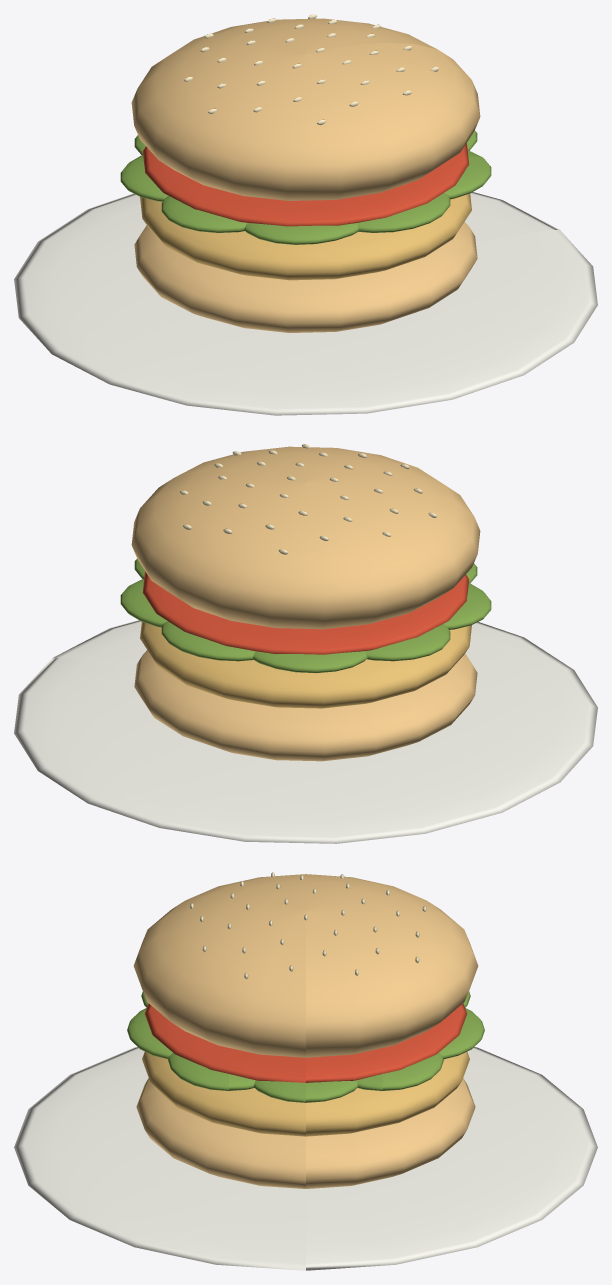
Rendered from aloo-tikki-burger.glb.
3 views of the same model, one above another, from view 1: azimuth 30°, elevation 25°; view 2: azimuth 150°, elevation 25°; view 3: azimuth 270°, elevation 25° (orthographic).
Parts seen in each view (by area): view 1: aloo-tikki-burger; view 2: aloo-tikki-burger; view 3: aloo-tikki-burger.
Boxes of the visible parts, left/top/right/bottom form: aloo-tikki-burger: left=14, top=14, right=597, bottom=415; aloo-tikki-burger: left=14, top=444, right=597, bottom=843; aloo-tikki-burger: left=14, top=872, right=597, bottom=1270.
Size of the model in its own units: 0.21 by 0.0989 by 0.21.
